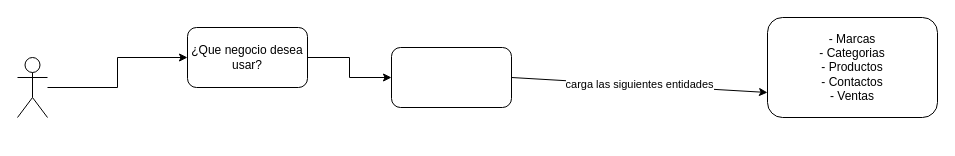
The diagram is 955 pixels wide and 156 high, and some of its shapes have lost their labels. Each missing label, with the centre of its shape:
"Actor" belongs at point (32, 87).
"Selecciona Negocio" belongs at point (451, 77).
